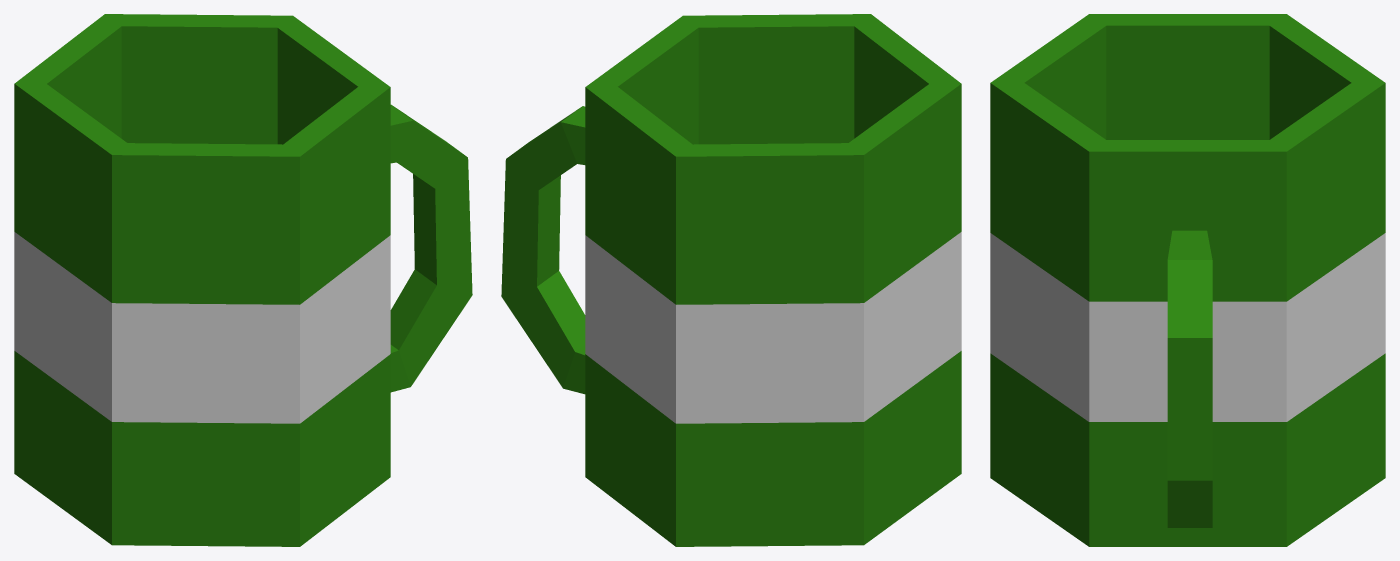
File: H_Mug_2.fbx
The picture shows the model from 3 angles, left to right: view 1: azimuth 30°, elevation 25°; view 2: azimuth 150°, elevation 25°; view 3: azimuth 270°, elevation 25°; orthographic projection.
Parts seen in each view (by area): view 1: H_Mug_2; view 2: H_Mug_2; view 3: H_Mug_2.
Boxes of the visible parts, x1,y1,x2,y2 form: H_Mug_2: (14, 14, 472, 546); H_Mug_2: (501, 14, 961, 546); H_Mug_2: (990, 14, 1385, 546).
Size of the model in its own units: 74.82 by 63.31 by 69.87.
